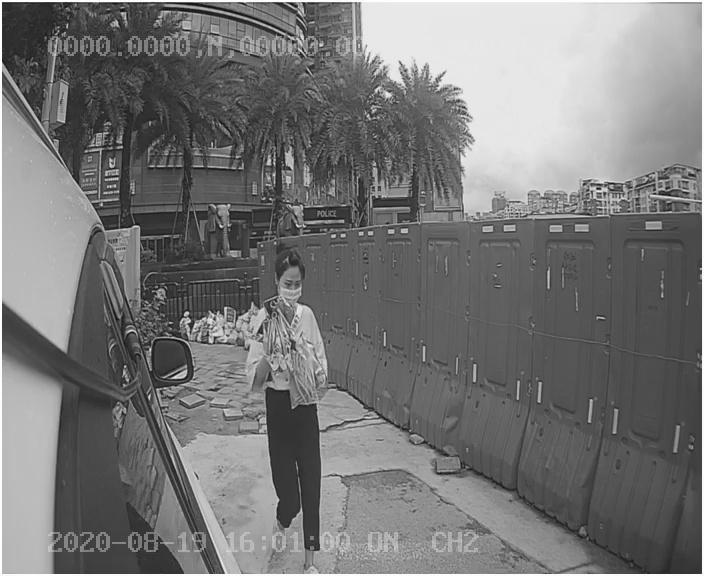person: (225, 245, 349, 530)
